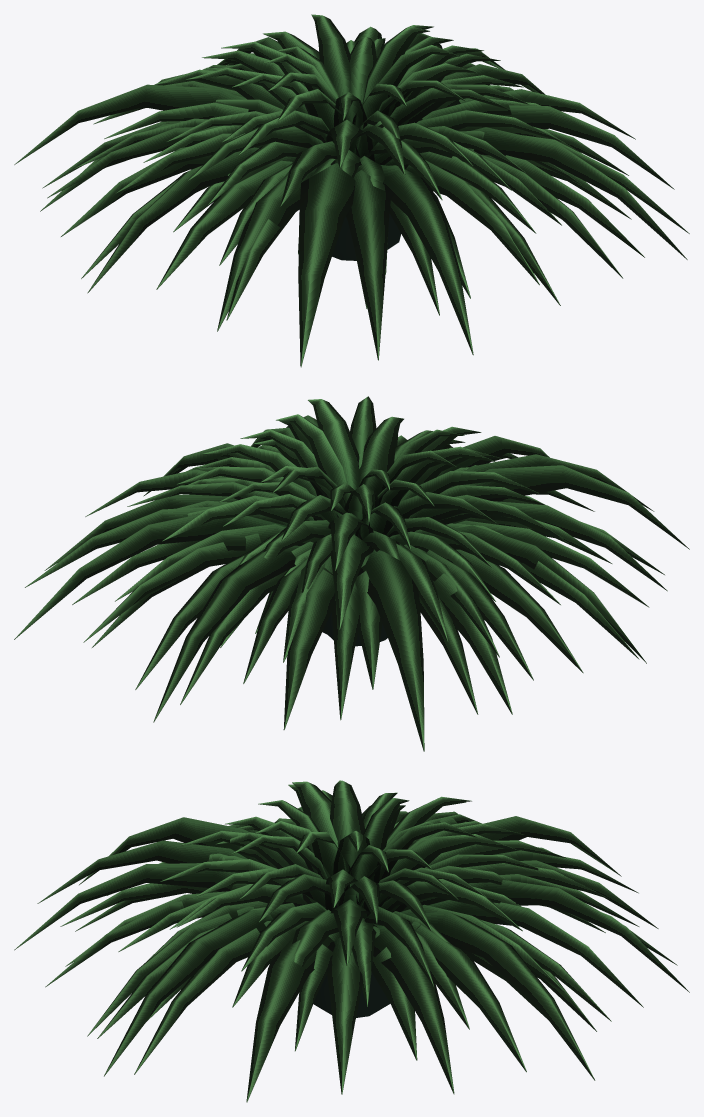
File: ZonPlant09.glb
The picture shows the model from 3 angles, top to bottom: view 1: azimuth 30°, elevation 25°; view 2: azimuth 150°, elevation 25°; view 3: azimuth 270°, elevation 25°; orthographic projection.
Parts seen in each view (by area): view 1: ZonPlant09_leaves; view 2: ZonPlant09_leaves; view 3: ZonPlant09_leaves.
Part boxes in pixels (bbox=[...]): ZonPlant09_leaves: bbox=[14, 14, 689, 367]; ZonPlant09_leaves: bbox=[14, 396, 689, 751]; ZonPlant09_leaves: bbox=[14, 780, 689, 1102].
Bounding box in the file's own units: 3.52 × 1.29 × 3.77.
2 materials, 1 textured.
